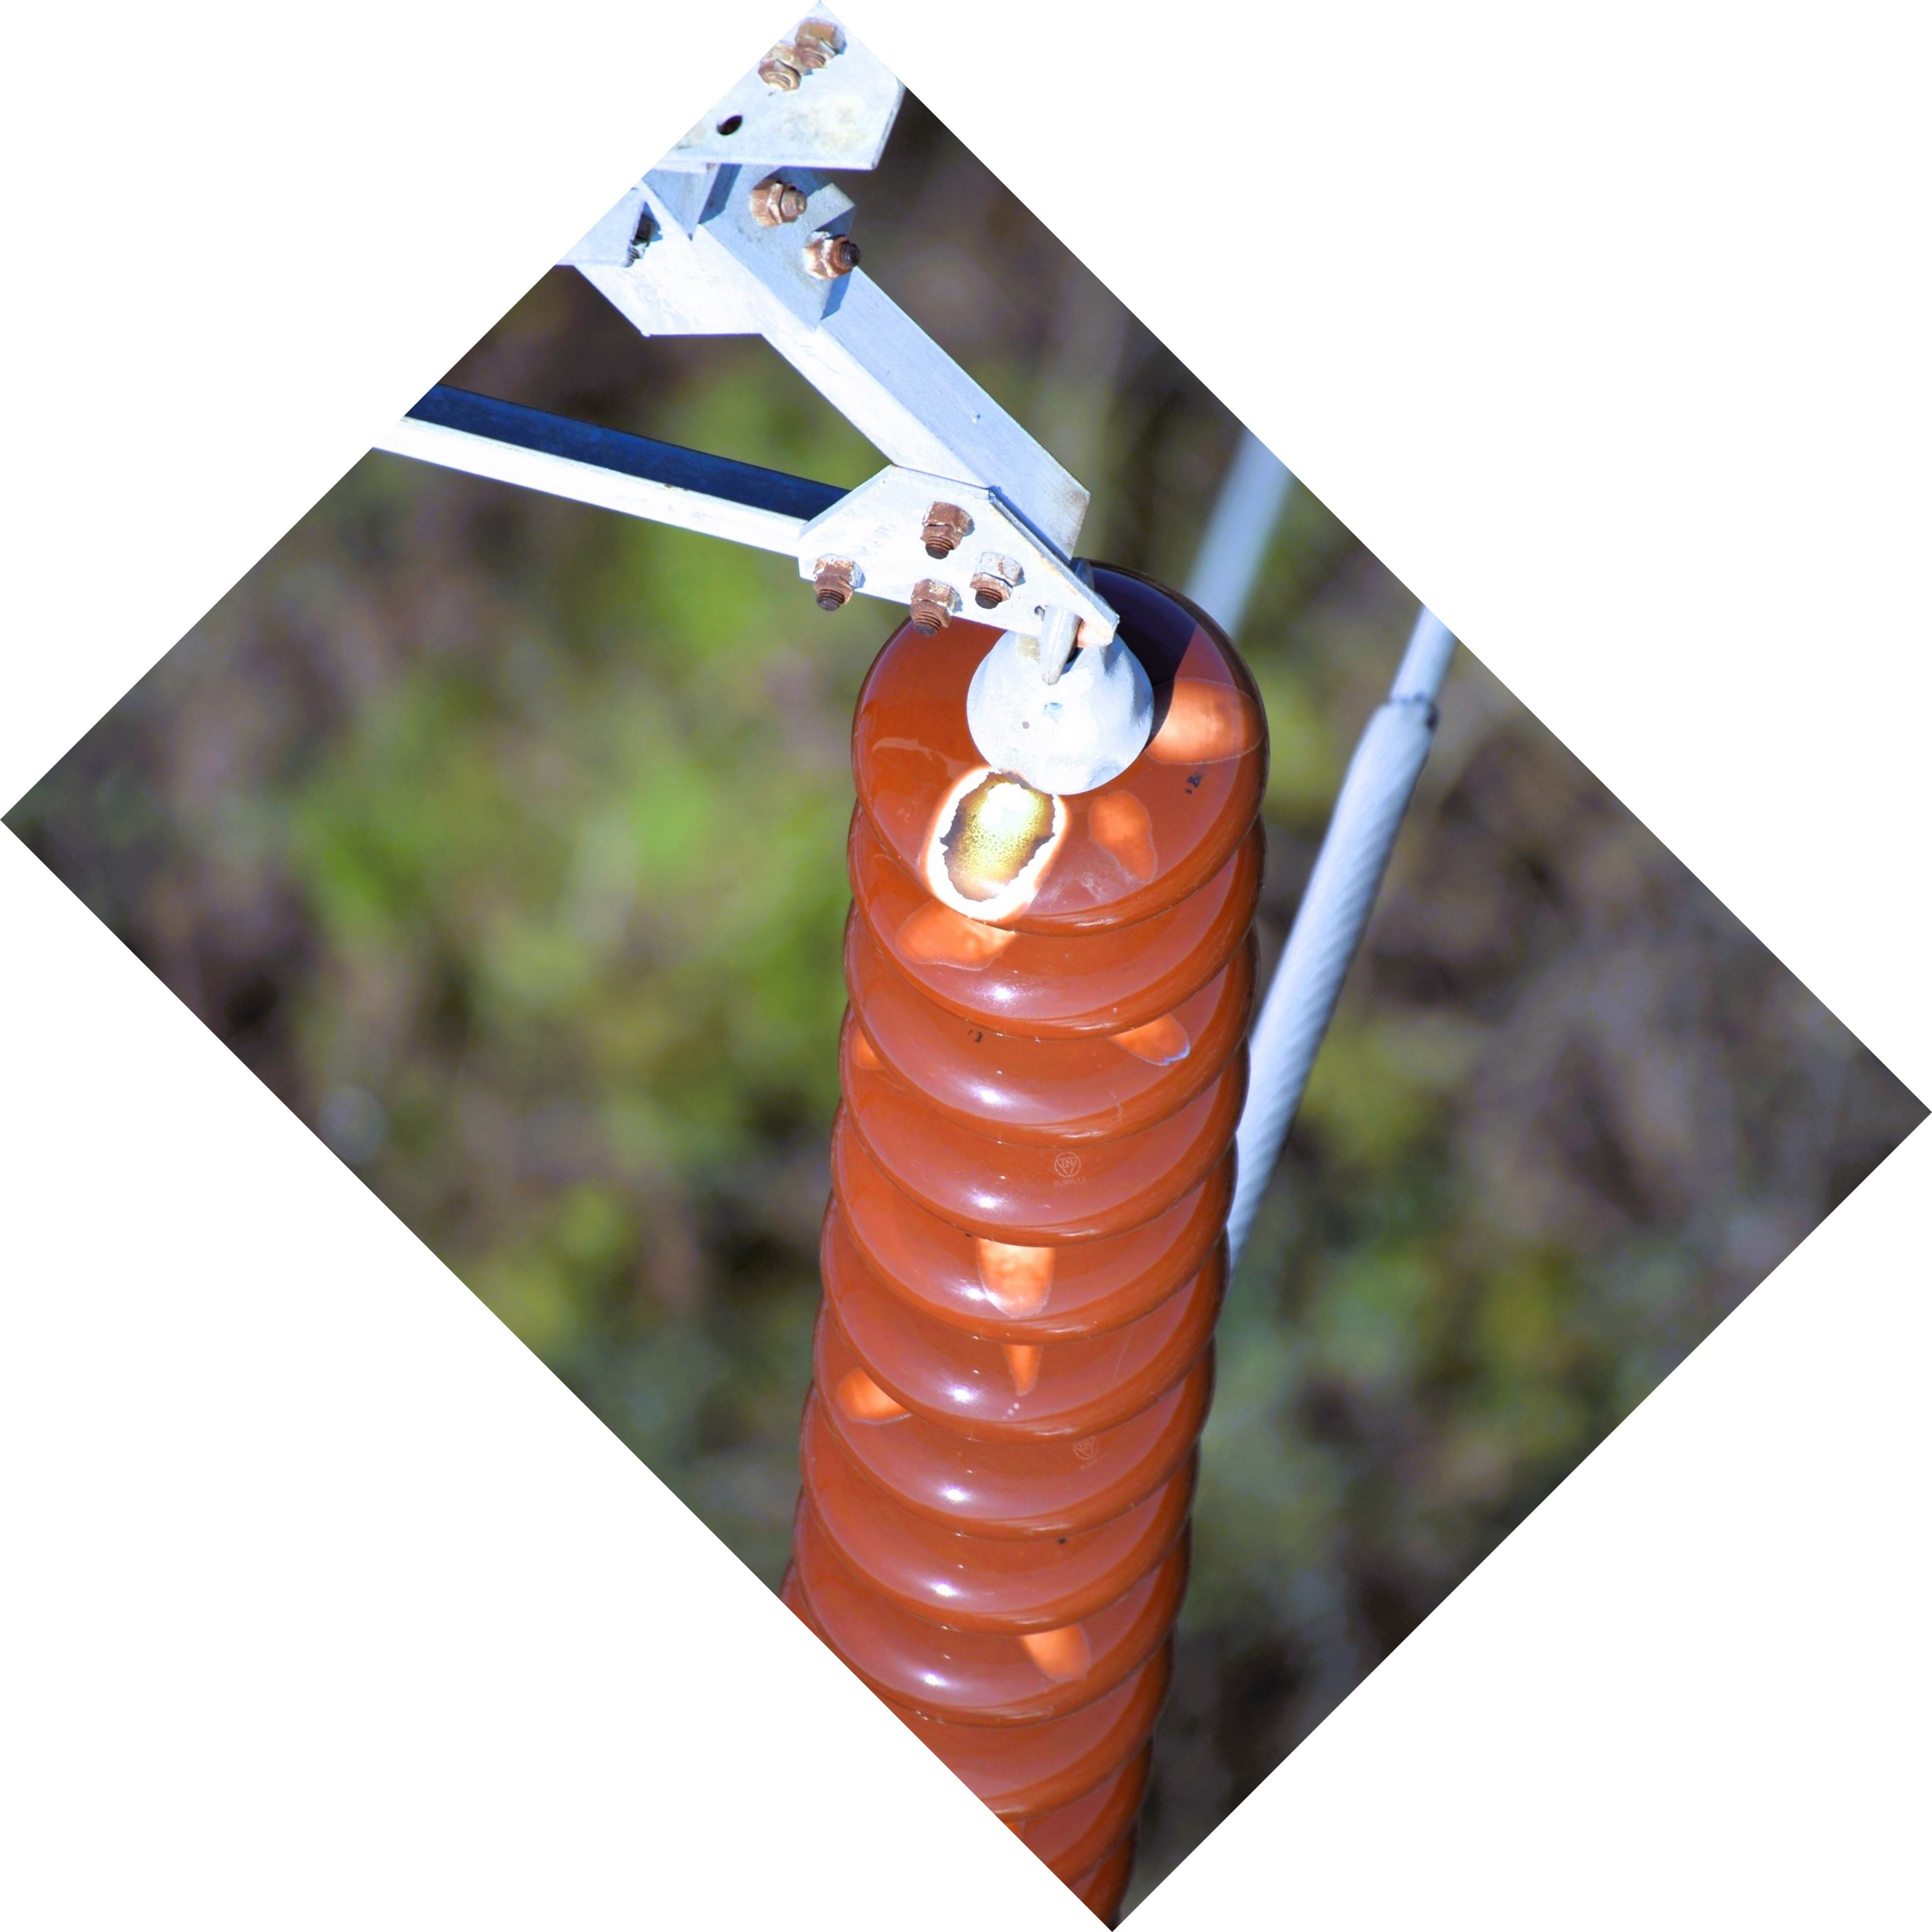Insulator flashover: (826, 556, 1277, 939)
